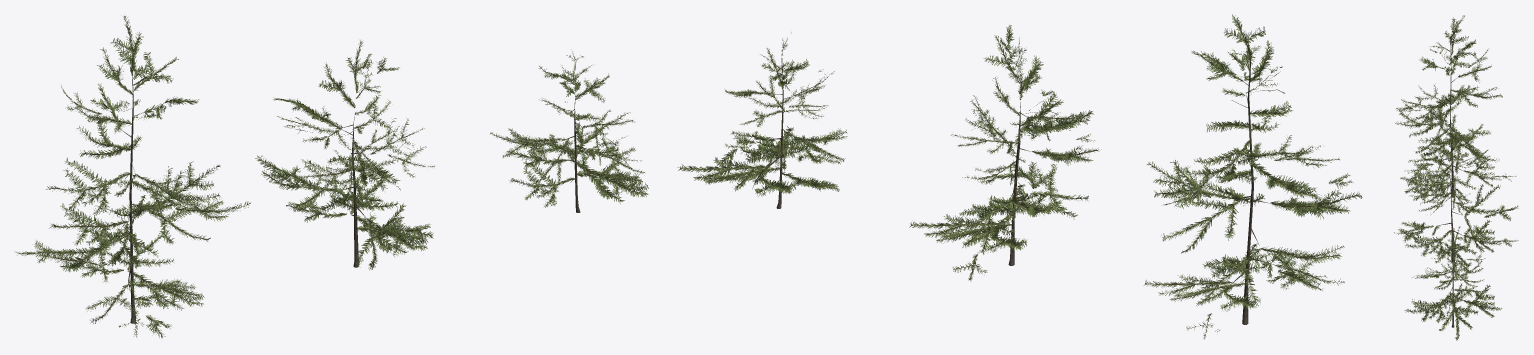
File: fir_sapling.glb
3 views of the same model, side by side, from view 1: azimuth 30°, elevation 25°; view 2: azimuth 150°, elevation 25°; view 3: azimuth 270°, elevation 25° (orthographic). The views are drawn at different scales.
Parts seen in each view (by area): view 1: fir_sapling_a, fir_sapling_b, fir_sapling_c; view 2: fir_sapling_a, fir_sapling_b, fir_sapling_c; view 3: fir_sapling_a, fir_sapling_b, fir_sapling_c.
Boxes of the visible parts, x1,y1,x2,y2 form: fir_sapling_a: (15, 16, 250, 338); fir_sapling_b: (255, 40, 434, 270); fir_sapling_c: (490, 51, 648, 212); fir_sapling_a: (1144, 14, 1362, 338); fir_sapling_b: (909, 25, 1099, 281); fir_sapling_c: (677, 32, 847, 208); fir_sapling_a: (1395, 15, 1516, 211); fir_sapling_b: (1394, 128, 1518, 275); fir_sapling_c: (1404, 226, 1502, 340).
Size of the model in its own units: 2.74 by 1.3 by 0.8166.
2 materials, 2 textured.
